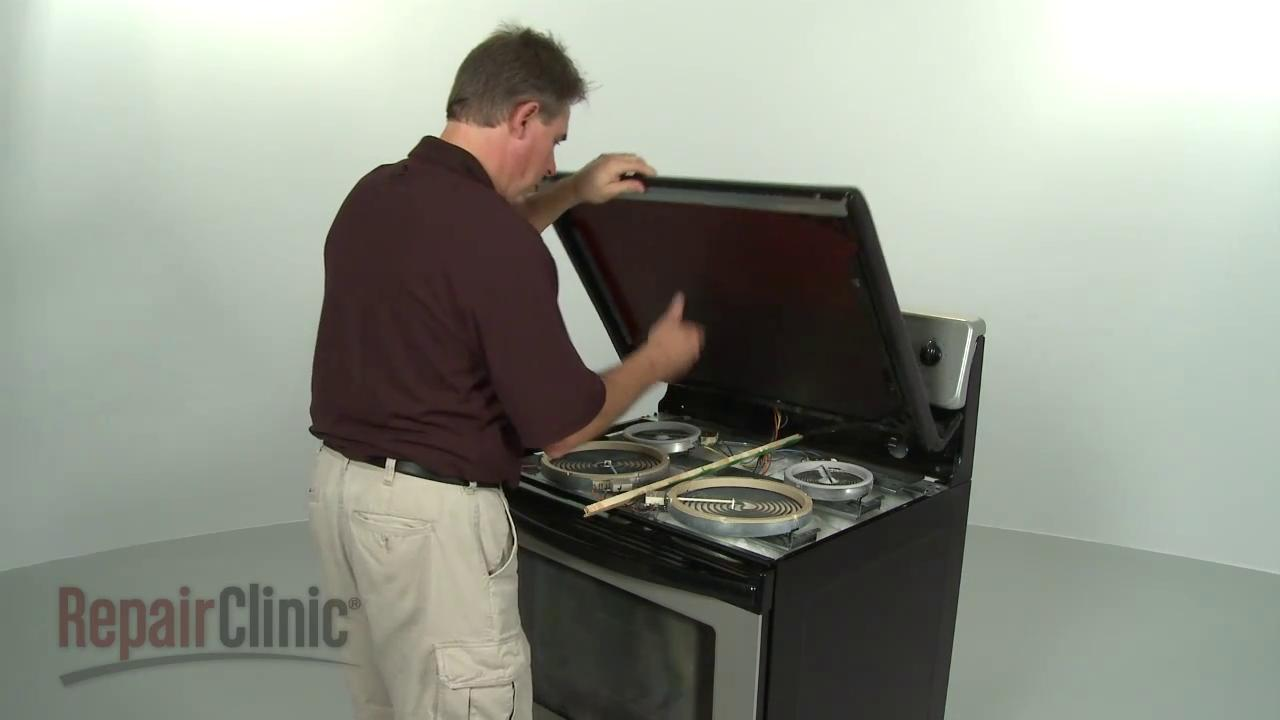victim: (302, 14, 710, 720)
